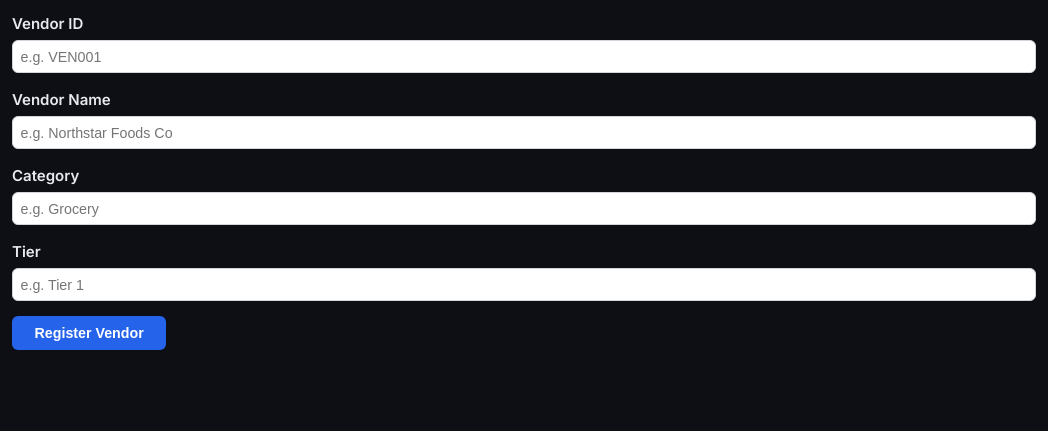
VendorRegisterForm › shows fallback error when registration rejects without an Error object
The image size is (1048, 431).
Type "VEN001" into the field labelled "Vendor ID" at {"x": 524, "y": 56}, box [12,40,1036,73]
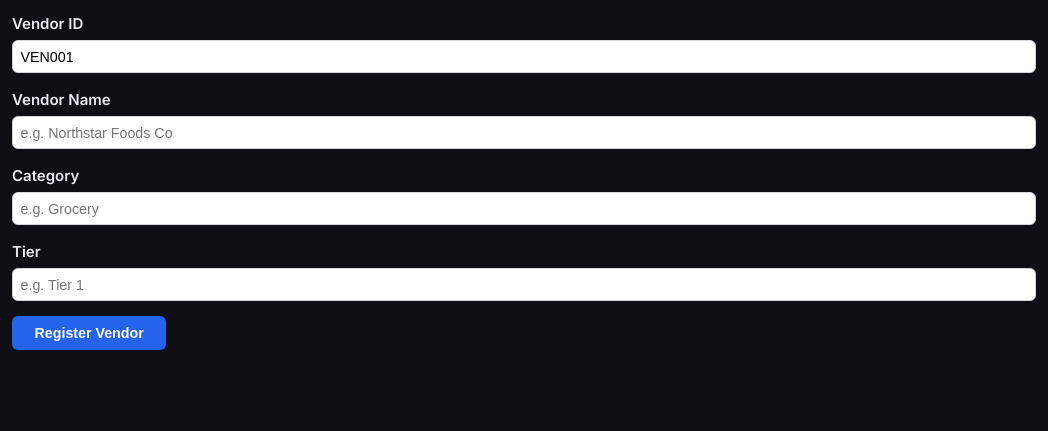
Type "Northstar" into the field labelled "Vendor Name" at {"x": 524, "y": 132}, box [12,116,1036,149]
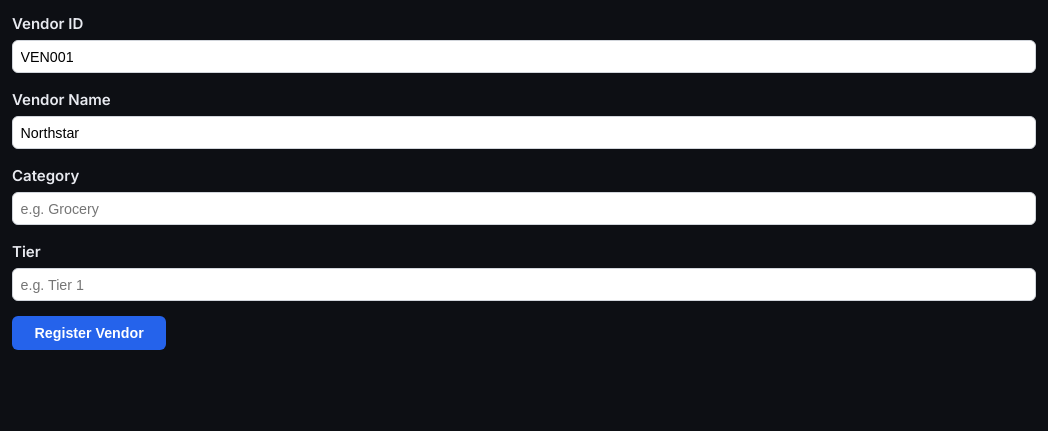
Type "Grocery" into the field labelled "Category" at {"x": 524, "y": 208}, box [12,192,1036,225]
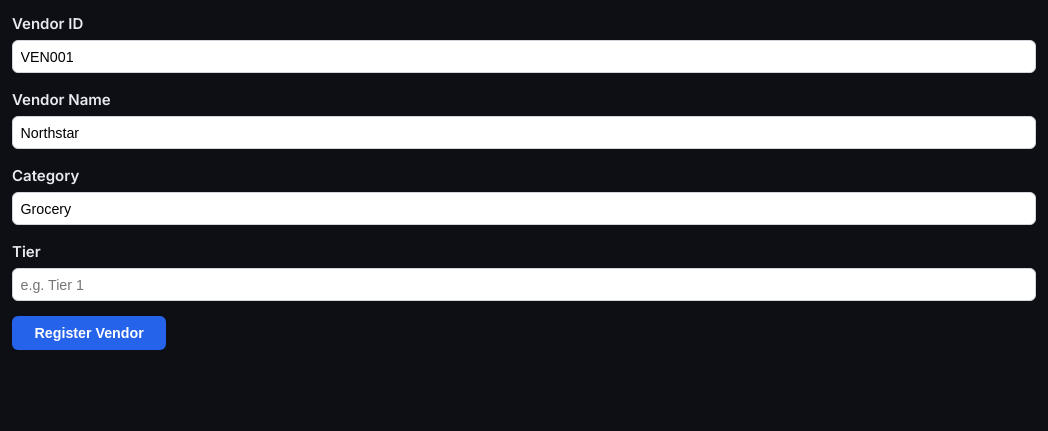
Type "Tier 1" into the field labelled "Tier" at {"x": 524, "y": 284}, box [12,268,1036,301]
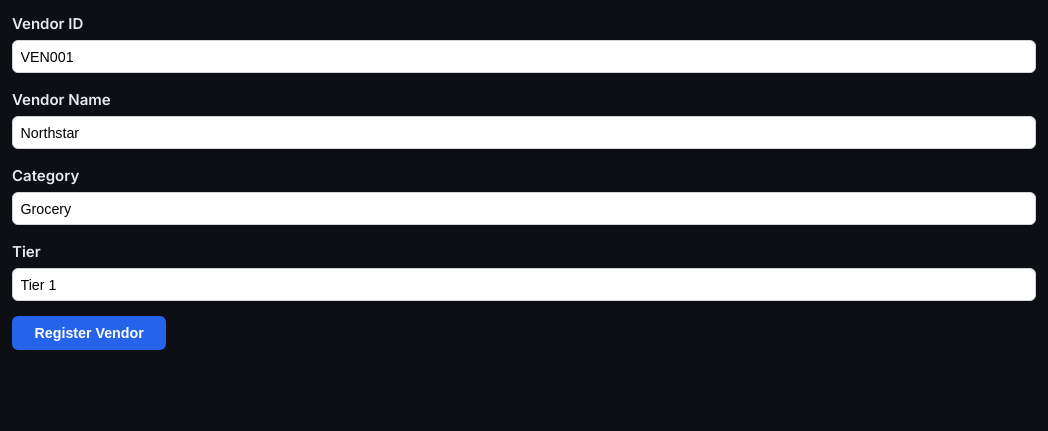
Click the button "Register Vendor" at {"x": 89, "y": 333}, box [12,316,166,350]
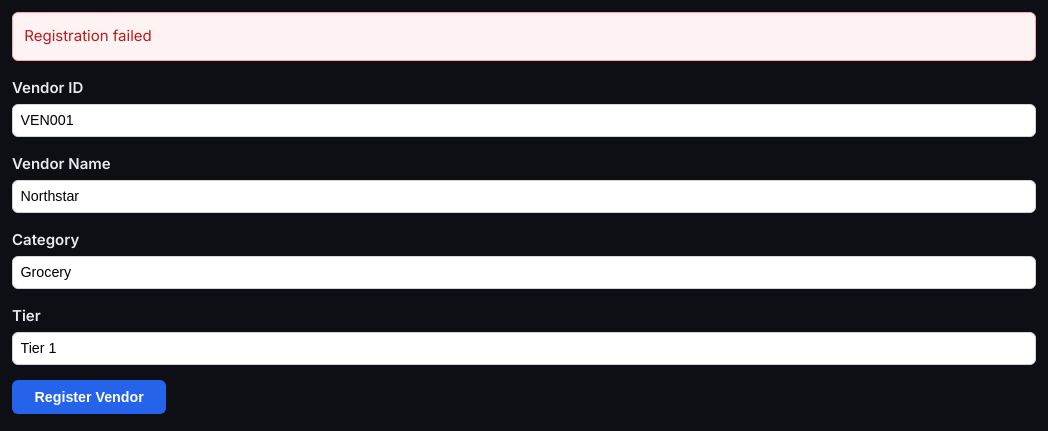
Now the message reads "Registration failed", box [24,26,152,45]
